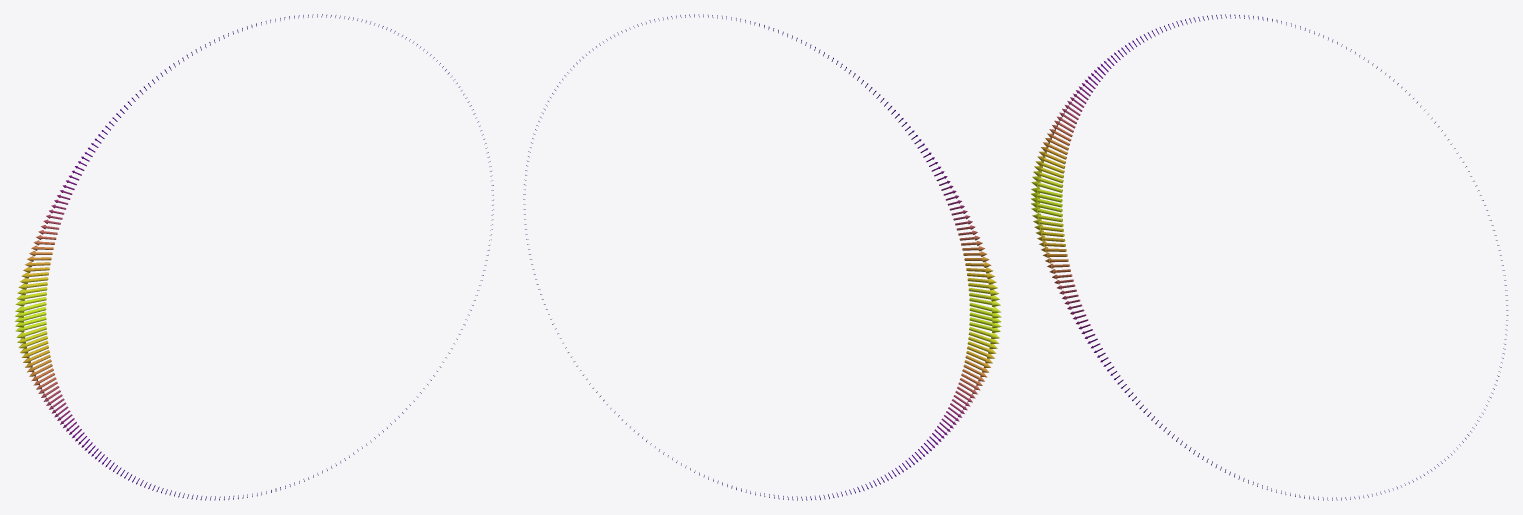
Rendered from coil_4_forces.gltf.
3 renders of one model, left to right at view 1: azimuth 30°, elevation 25°; view 2: azimuth 150°, elevation 25°; view 3: azimuth 330°, elevation 25°, orthographic.
Parts seen in each view (by area): view 1: Renderer Node; view 2: Renderer Node; view 3: Renderer Node.
Part boxes in pixels (<box>): Renderer Node: <box>15,14,493,500</box>; Renderer Node: <box>523,14,1001,500</box>; Renderer Node: <box>1031,14,1508,500</box>.
Bounding box in the file's own units: 0.6455 × 0.6099 × 0.00842.
1 material, 1 textured.
